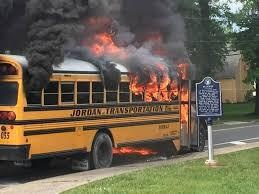fire: (128, 61, 190, 100), (87, 32, 123, 55)
